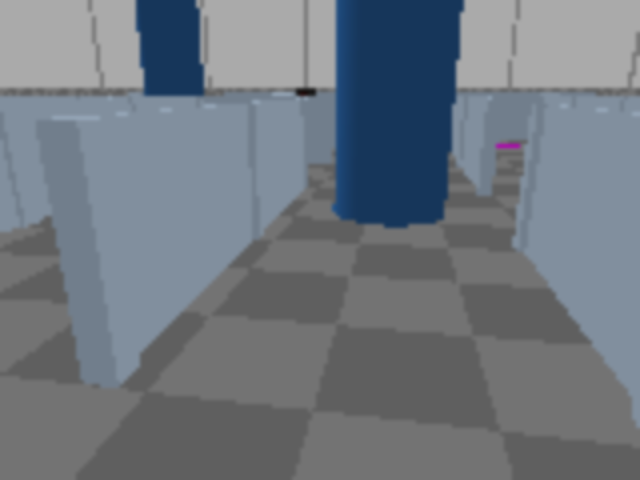goal_zone: (475, 143, 523, 149)
